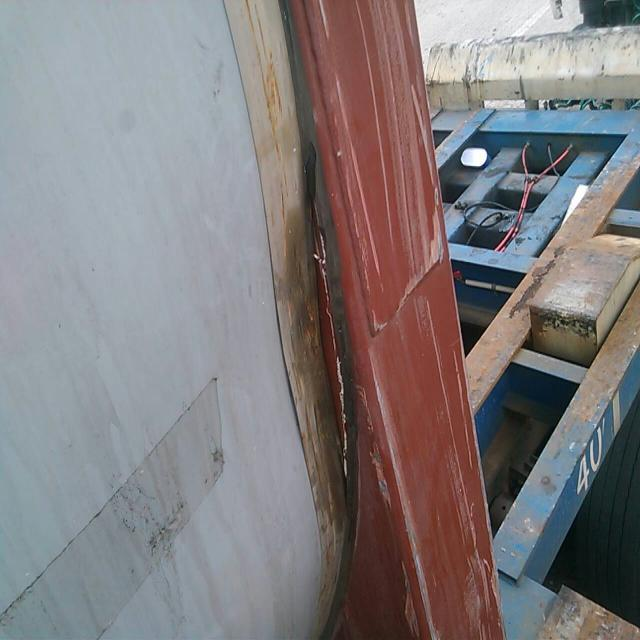dent: (289, 100, 375, 639)
